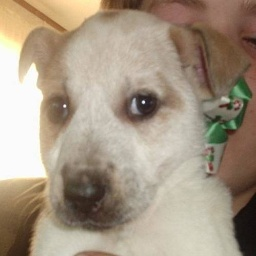dog: (13, 9, 256, 256)
